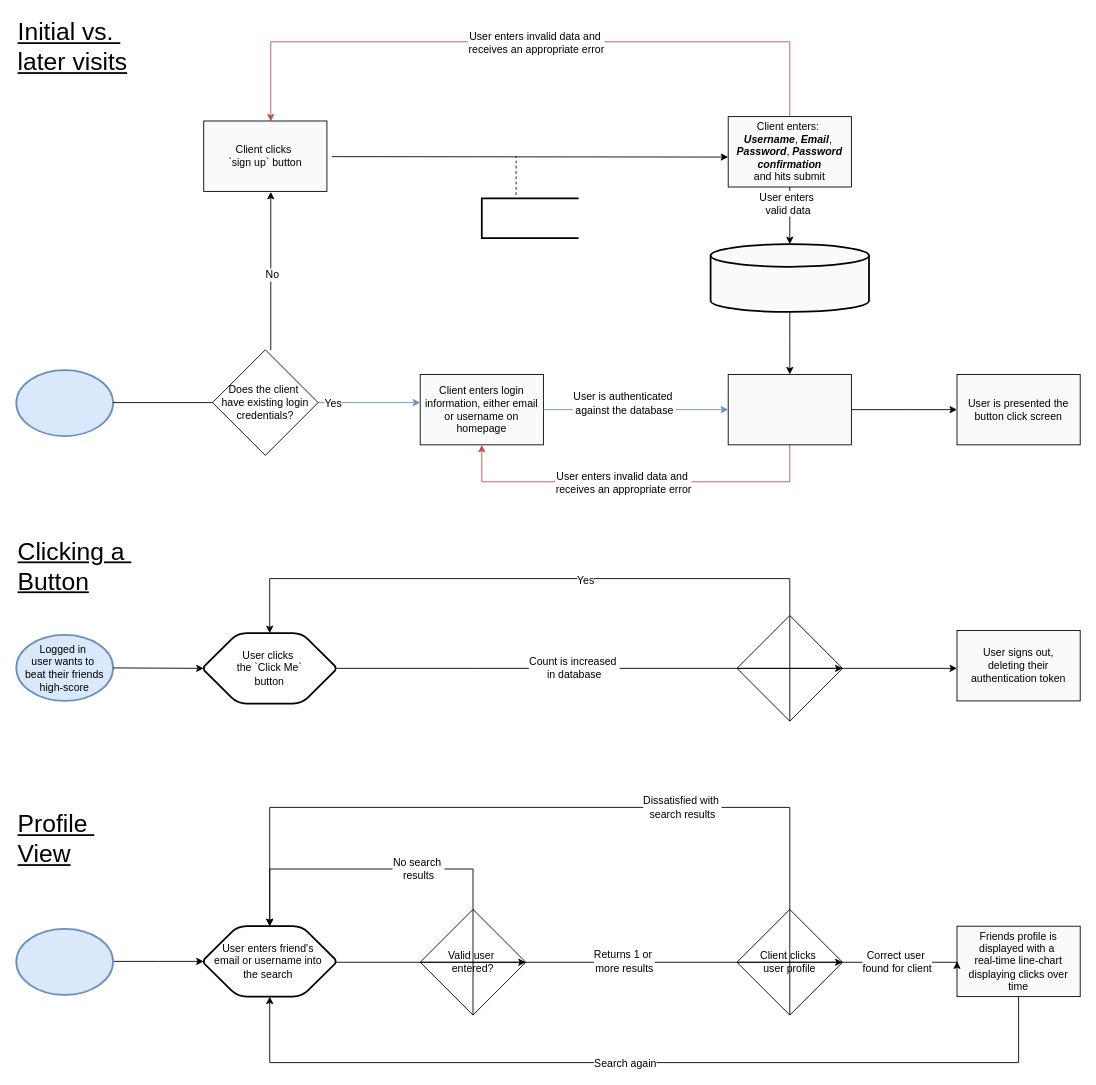
Image size: 1096x1085. Some labels were removed from this diagram. The box of each missing label's shape, as (x1, y1, x2, y2) in pixels:
Keep Clicking?: (736, 615, 843, 721)
Logged in user wants to view a friends profile: (15, 928, 114, 995)
User information is stored in database, click count set to 0: (709, 243, 869, 312)
User is assigned an authentication token: (727, 374, 851, 445)
User navigates to ARM-clicker: (15, 369, 114, 436)
View changes from `login` to `signup`: (480, 197, 579, 238)
